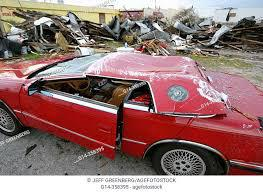roof-dent: (90, 52, 217, 95)
